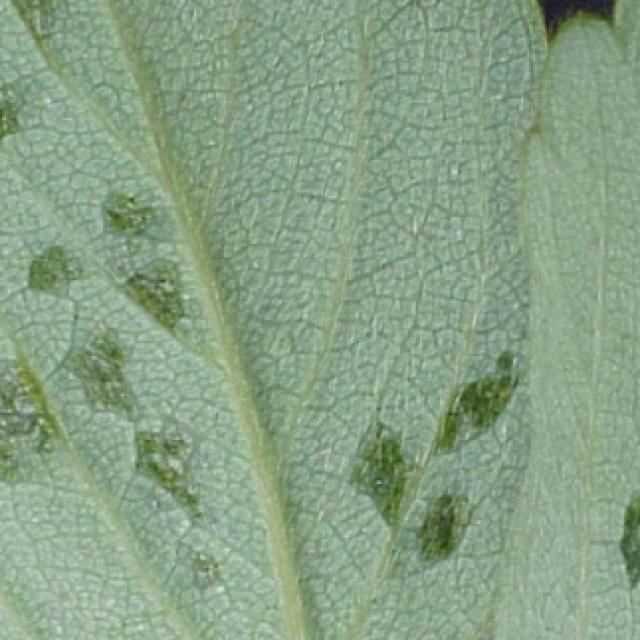Angular Leafspot: (489, 0, 640, 640)
